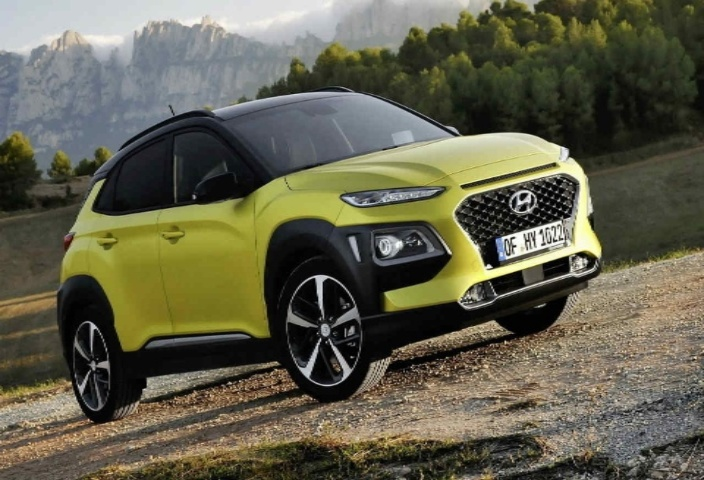camper: (42, 91, 600, 419)
